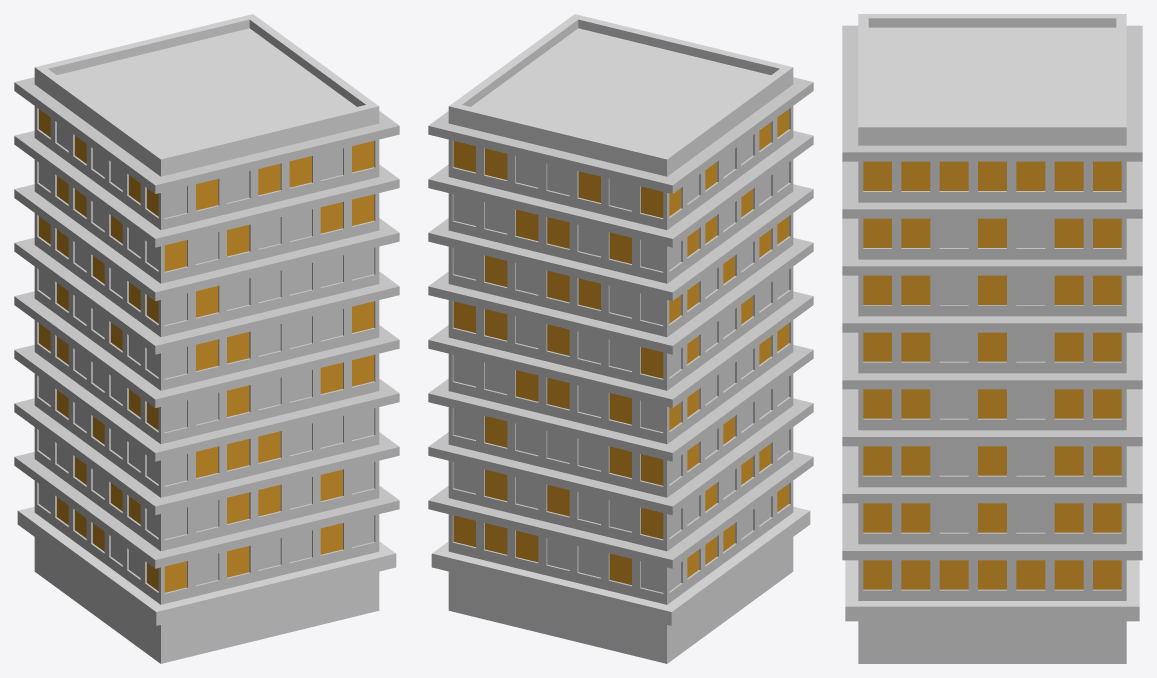
3 views of the same model, side by side, from view 1: azimuth 30°, elevation 25°; view 2: azimuth 150°, elevation 25°; view 3: azimuth 270°, elevation 25° (orthographic). The views are drawn at different scales.
Parts seen in each view (by area): view 1: sBody, sTop, sBottom; view 2: sBody, sTop, sBottom; view 3: sBody, sTop, sBottom.
Part boxes in pixels (box(x1,y1,x2,y2)): sBody: box(14, 77, 399, 604); sTop: box(34, 14, 379, 176); sBottom: box(17, 506, 396, 663); sBody: box(428, 77, 813, 604); sTop: box(448, 14, 793, 176); sBottom: box(431, 506, 810, 663); sBody: box(842, 25, 1142, 600); sTop: box(858, 14, 1126, 145); sBottom: box(845, 560, 1139, 663).
Size of the model in its own units: 224 by 224 by 441.
